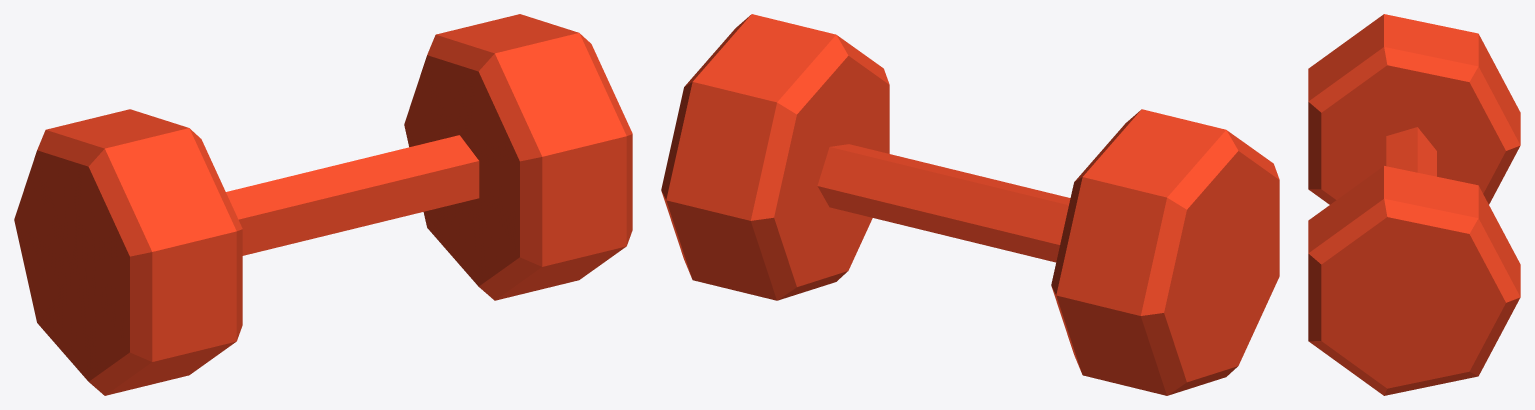
Rendered from SM_Dumbbell_Gym_C_City.fbx.
The picture shows the model from 3 angles, left to right: view 1: azimuth 30°, elevation 25°; view 2: azimuth 150°, elevation 25°; view 3: azimuth 270°, elevation 25°; orthographic projection. The views are drawn at different scales.
Parts seen in each view (by area): view 1: SM_Dumbbell_Gym_C_City; view 2: SM_Dumbbell_Gym_C_City; view 3: SM_Dumbbell_Gym_C_City.
Boxes of the visible parts, x1,y1,x2,y2 form: SM_Dumbbell_Gym_C_City: [14, 14, 632, 395]; SM_Dumbbell_Gym_C_City: [661, 14, 1279, 395]; SM_Dumbbell_Gym_C_City: [1308, 14, 1520, 395].
Bounding box in the file's own units: 0.3468 × 0.163 × 0.1589.
